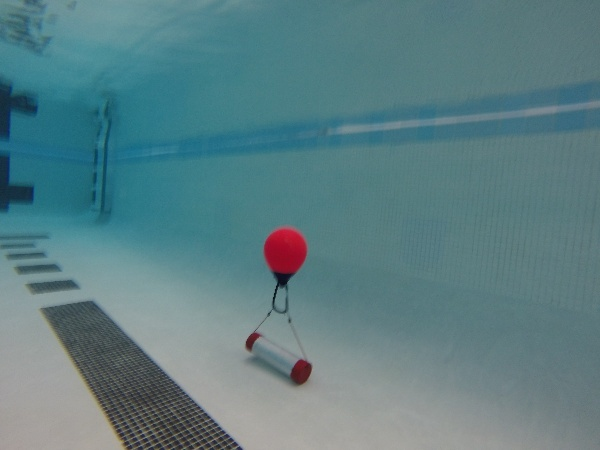buoy_red: (258, 224, 309, 287)
